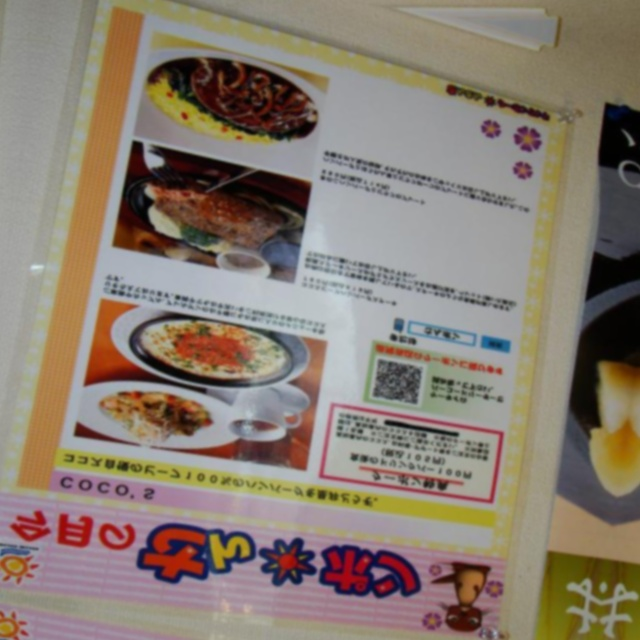qr-code: (372, 359, 422, 405)
